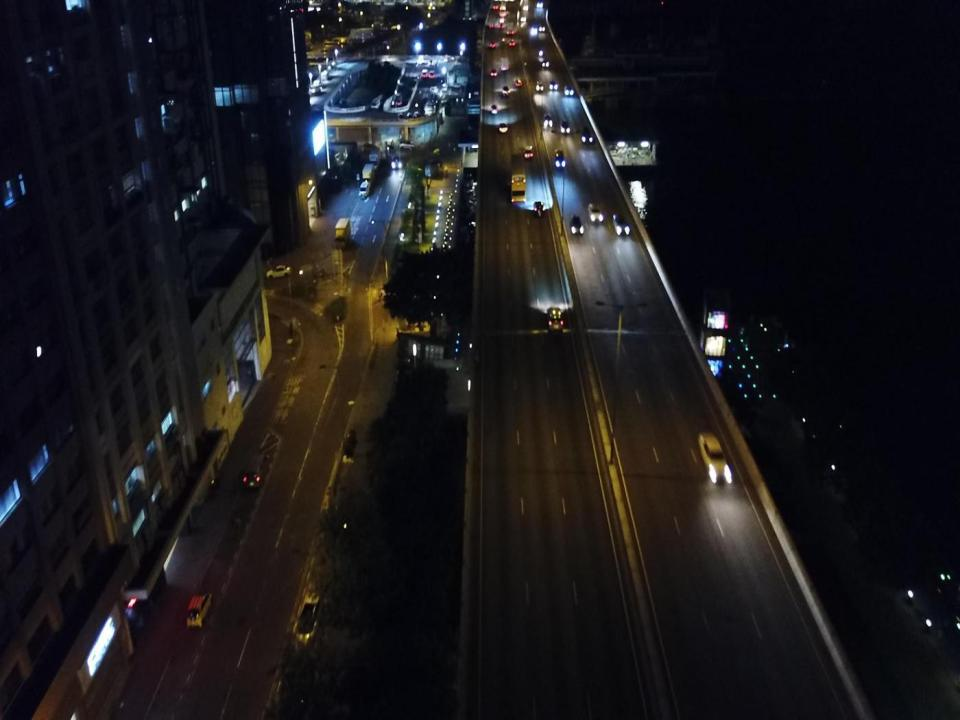bus: (511, 154, 526, 203)
car: (699, 431, 730, 482), (242, 452, 267, 490), (186, 592, 212, 626), (547, 307, 564, 334), (612, 215, 628, 234), (588, 204, 603, 224), (267, 265, 290, 278), (570, 214, 583, 236), (361, 142, 380, 152), (582, 126, 592, 143), (534, 201, 544, 216), (399, 139, 414, 149), (560, 119, 570, 133), (524, 146, 532, 158), (544, 114, 552, 126), (499, 122, 507, 132), (503, 86, 510, 97), (564, 86, 572, 95), (548, 82, 558, 89), (444, 55, 453, 62), (491, 104, 497, 114), (537, 82, 543, 92), (442, 82, 448, 92), (515, 78, 522, 86), (530, 26, 537, 34), (509, 38, 515, 46), (539, 24, 545, 32), (491, 69, 497, 76), (542, 60, 548, 67), (537, 1, 544, 7), (490, 41, 496, 47), (522, 3, 528, 9), (521, 16, 527, 21), (499, 24, 505, 27)
truck: (335, 218, 351, 250), (384, 140, 401, 170), (369, 150, 381, 170), (362, 164, 374, 184), (506, 21, 514, 34), (489, 13, 496, 27), (500, 58, 508, 70)
van: (358, 181, 370, 197), (556, 150, 564, 168), (313, 80, 321, 93), (371, 98, 381, 108), (396, 95, 403, 106), (321, 70, 328, 80), (421, 68, 427, 78), (429, 70, 435, 78)
